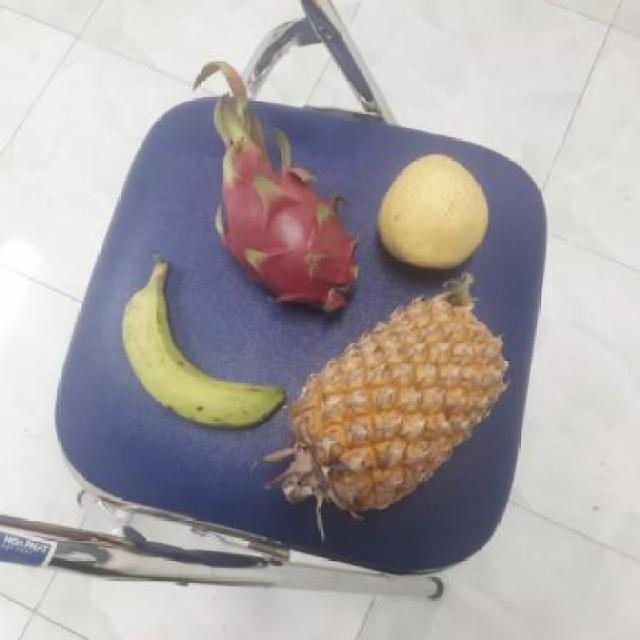banana: (117, 262, 281, 430)
dragon fruit: (208, 158, 360, 318)
pear: (372, 153, 490, 269)
pineapple: (278, 287, 498, 508)
